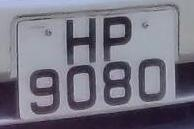0: (62, 60, 100, 114), (133, 52, 171, 106)
8: (100, 53, 135, 112)
9: (25, 59, 63, 119)
H: (61, 16, 102, 65)
P: (97, 13, 137, 60)
